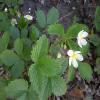Strawberry leaf: (30, 34, 49, 64), (38, 57, 64, 78), (27, 63, 44, 92)
